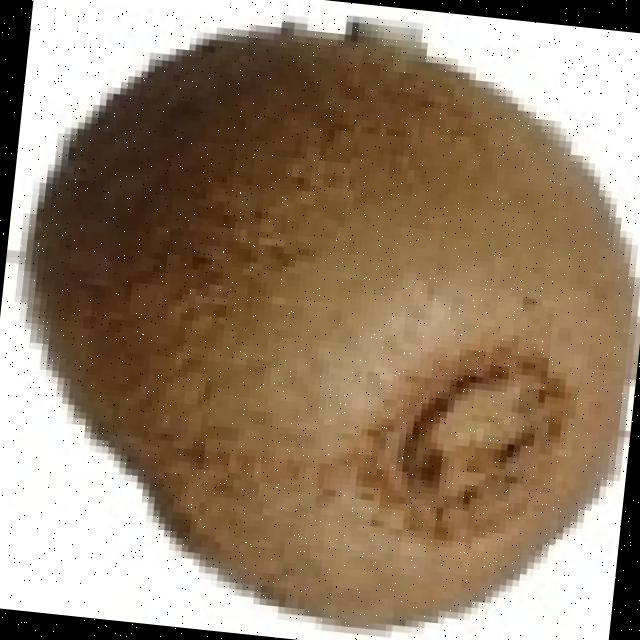kiwi: (35, 21, 632, 624)
